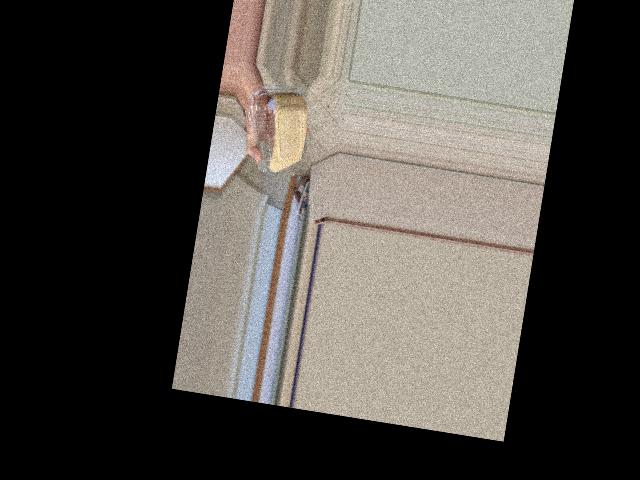cheese: (258, 78, 306, 158)
